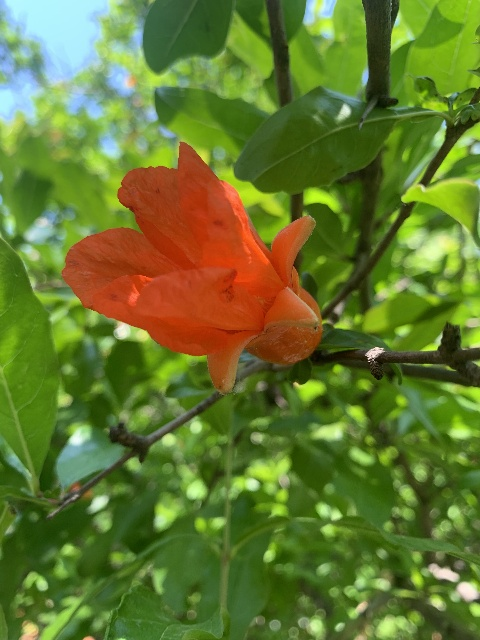flower: (62, 143, 320, 393)
